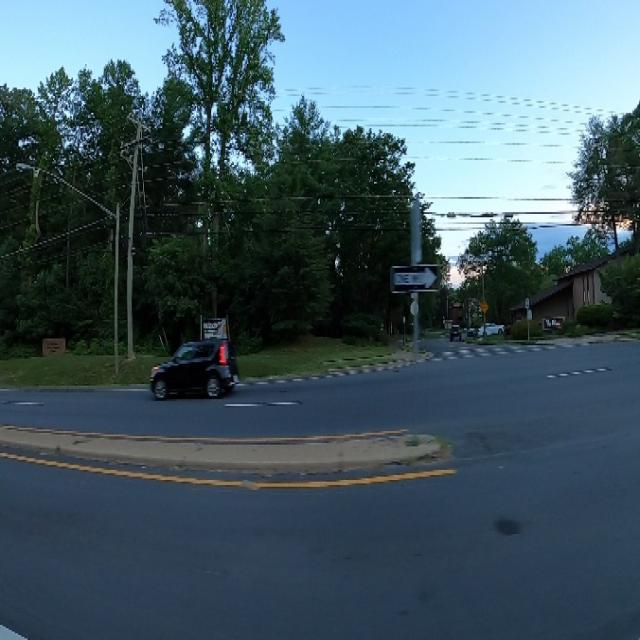car: (141, 327, 251, 408)
